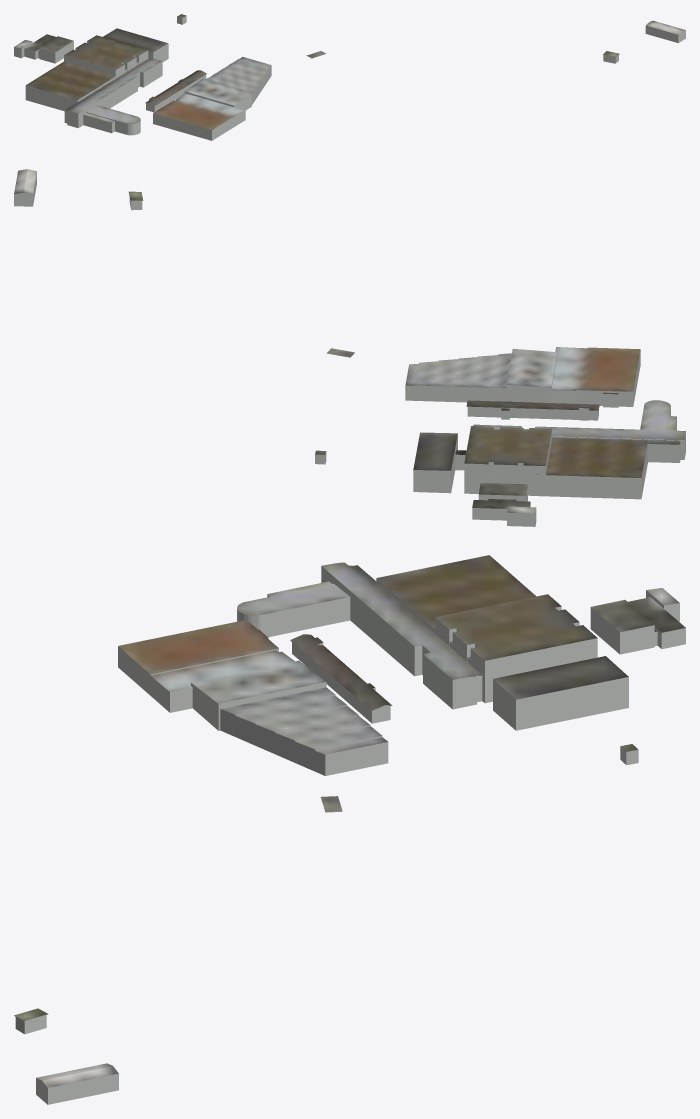
File: LSZH_1_-4.glb
3 renders of one model, top to bottom at view 1: azimuth 30°, elevation 25°; view 2: azimuth 150°, elevation 25°; view 3: azimuth 270°, elevation 25°, orthographic. The views are drawn at different scales.
Visible parts, largest first — view 1: building_38054fb693e29a9a, building_32e029ca4e5a9f45, building_06776e14acee185c, building_a37fb3fa0204df6d, building_3558dbb7078033b1, building_c0b2b08f21e5259d; view 2: building_38054fb693e29a9a, building_32e029ca4e5a9f45, building_06776e14acee185c, building_a37fb3fa0204df6d; view 3: building_38054fb693e29a9a, building_32e029ca4e5a9f45, building_06776e14acee185c, building_a37fb3fa0204df6d, building_3558dbb7078033b1, building_c0b2b08f21e5259d.
Boxes of the visible parts, x1,y1,x2,y2 form: building_38054fb693e29a9a: (14, 28, 168, 124); building_32e029ca4e5a9f45: (145, 51, 325, 130); building_06776e14acee185c: (14, 41, 168, 135); building_a37fb3fa0204df6d: (146, 66, 271, 140); building_3558dbb7078033b1: (645, 26, 685, 43); building_c0b2b08f21e5259d: (646, 20, 685, 34); building_38054fb693e29a9a: (413, 400, 685, 513); building_32e029ca4e5a9f45: (326, 347, 640, 410); building_06776e14acee185c: (413, 406, 685, 526); building_a37fb3fa0204df6d: (405, 351, 640, 420); building_38054fb693e29a9a: (237, 555, 685, 699); building_32e029ca4e5a9f45: (118, 620, 392, 812); building_06776e14acee185c: (237, 566, 685, 730); building_a37fb3fa0204df6d: (118, 637, 390, 775); building_3558dbb7078033b1: (36, 1074, 118, 1104); building_c0b2b08f21e5259d: (36, 1063, 118, 1088).
Size of the model in its own units: 493 by 18.19 by 261.
Materials: 2 (1 with a texture image).
